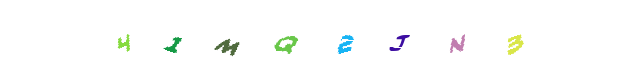1: (191, 0, 271, 80)
2: (305, 0, 385, 80)
3: (459, 0, 539, 80)
4: (167, 0, 247, 80)
J: (359, 0, 439, 80)
M: (259, 0, 339, 80)
N: (392, 0, 472, 80)
Q: (274, 0, 354, 80)
